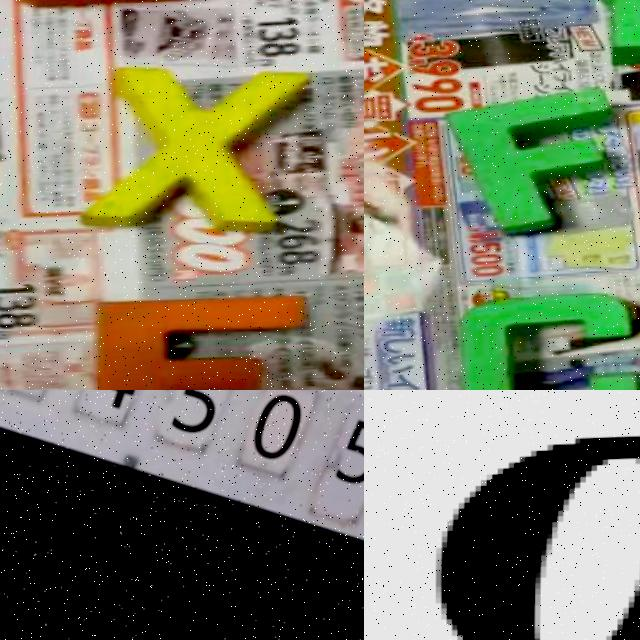0: (232, 390, 313, 481)
4: (69, 390, 155, 428)
5: (151, 390, 236, 457), (317, 405, 364, 508)
C: (459, 287, 640, 390)
E: (92, 296, 310, 390)
F: (449, 90, 619, 234)
X: (106, 64, 316, 244)
Y: (553, 0, 640, 72)
